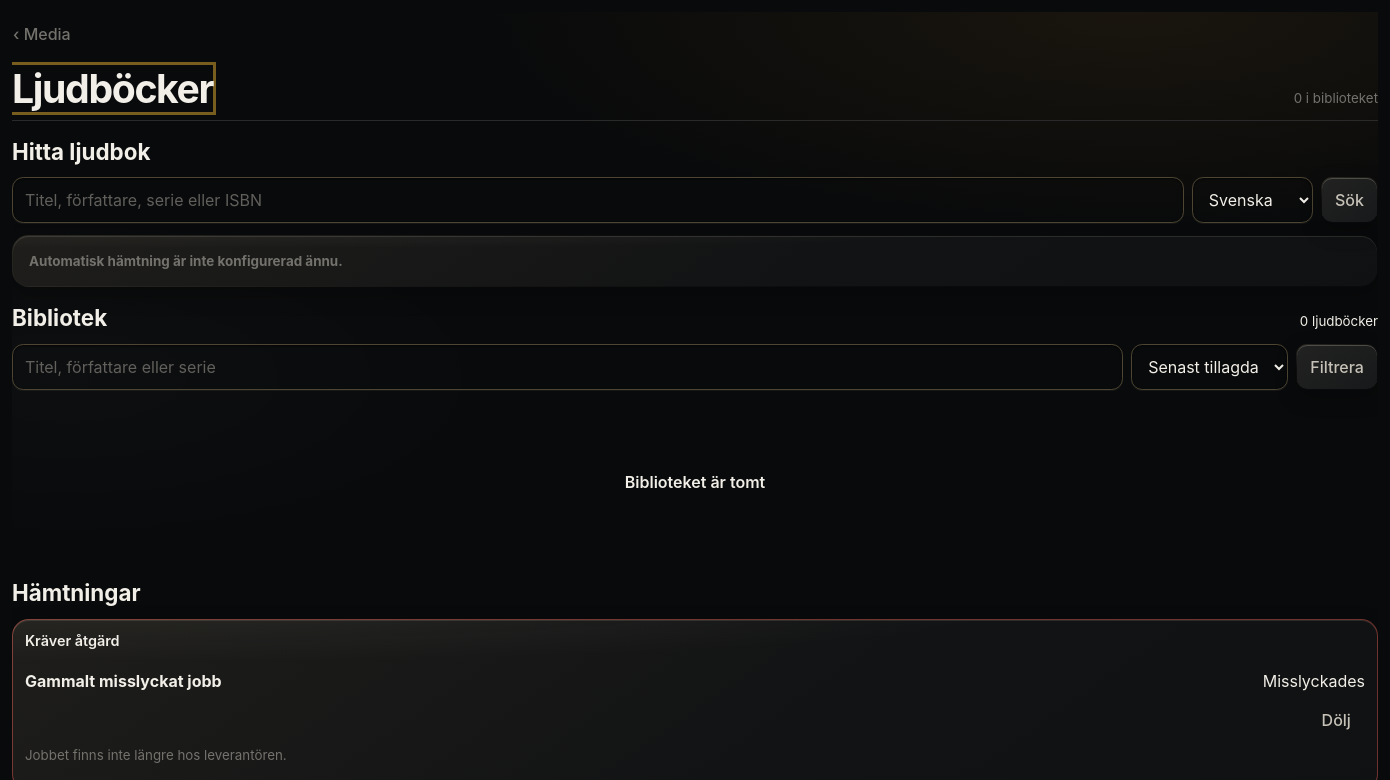
dismisses failed attention locally without mutating audit or provider state
Expected: the text "Gammalt misslyckat jobb" is shown, [25,671,222,691]
Click the button with aria-label "Dölj Gammalt misslyckat jobb från åtgärdslistan" at (1336, 720), box [1308,697,1365,742]
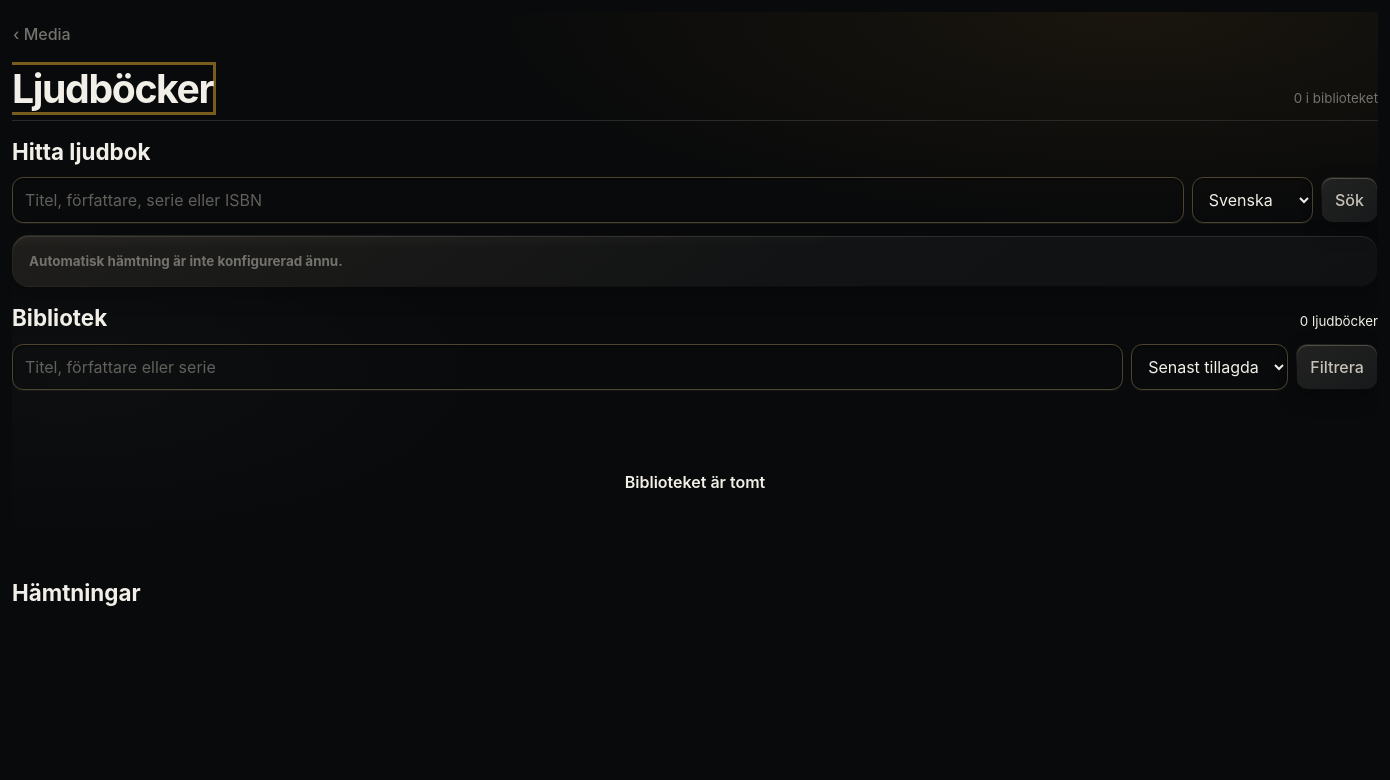
Expected: the text "Gammalt misslyckat jobb" is gone
